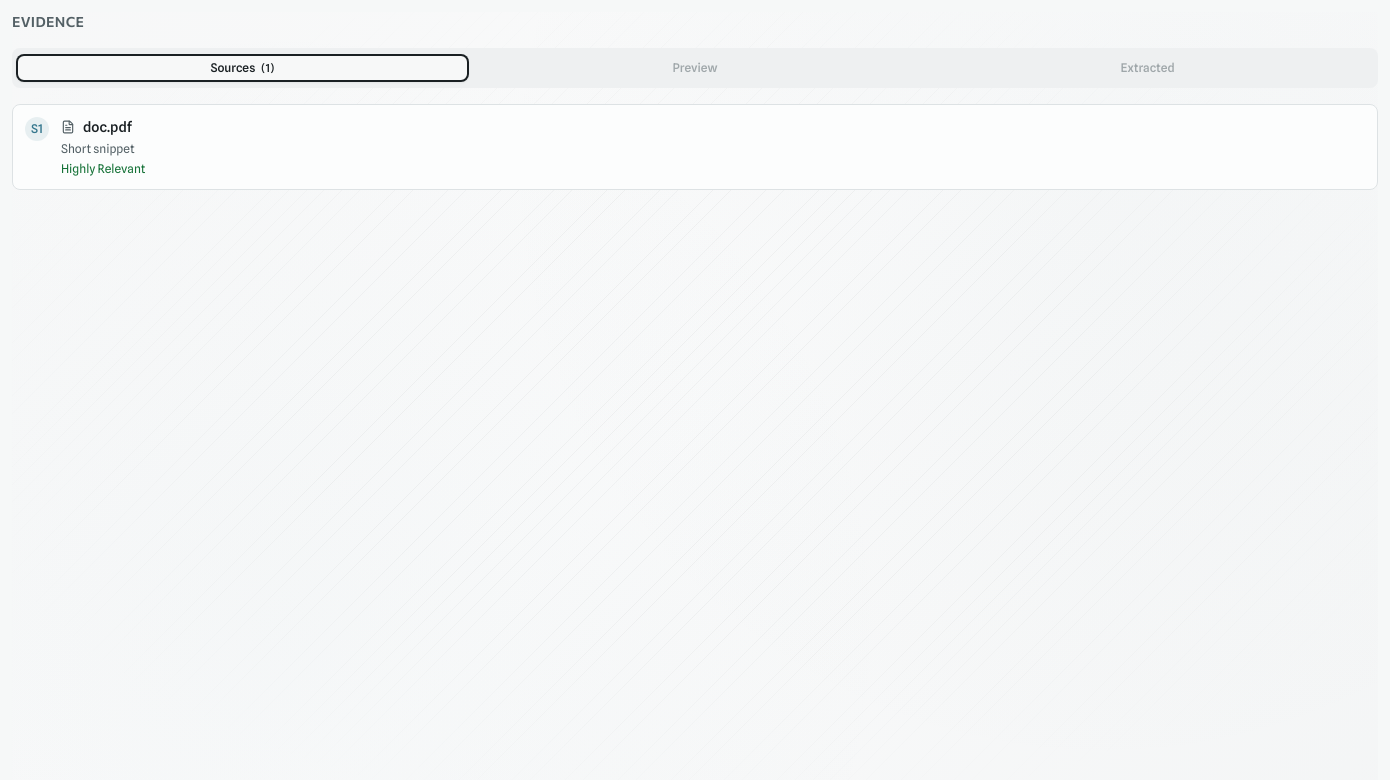
Test: RightPane › Tab switching functionality › fetches expanded context only after selecting a source
Click the button.
click(108, 127)  # box [12, 104, 1378, 190]
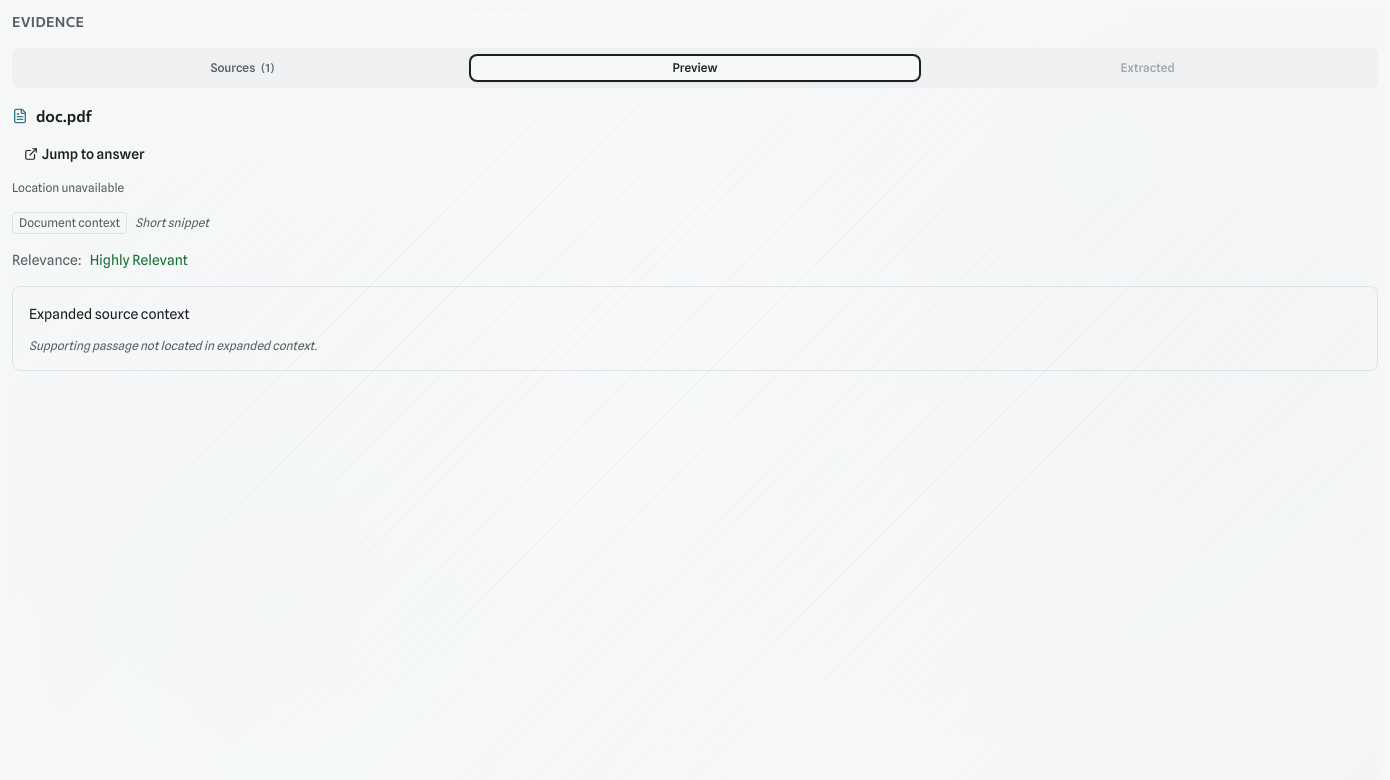
Now the text "Expanded source context" is shown, box [29, 306, 190, 322]
